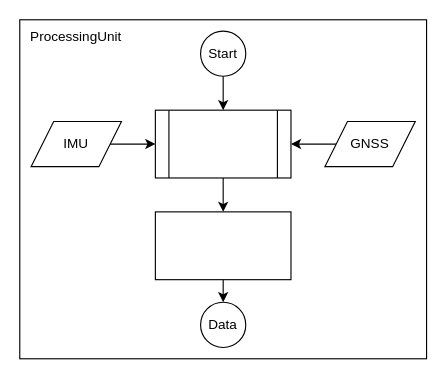
This 446x379 diagram has some shape labels left out. The box of each missing label's shape, as (x1, y1, x2, y2) in pixels:
Get Sensor Data: (154, 109, 291, 178)
Validate Data: (154, 211, 291, 280)
